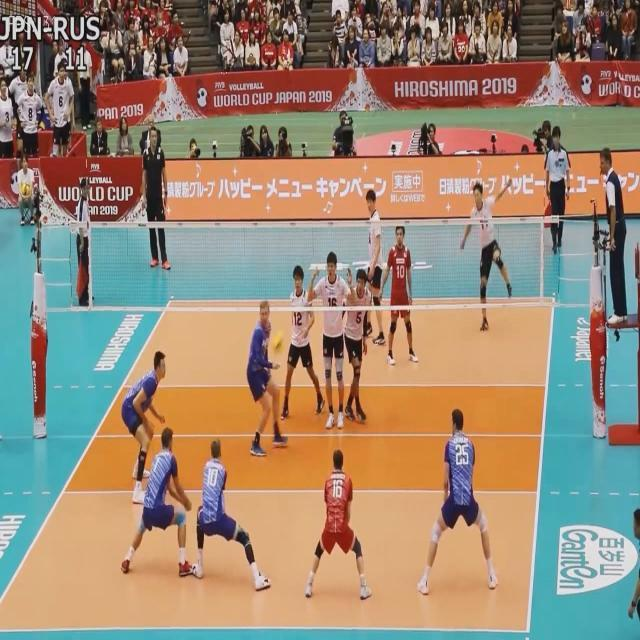volleyball: (270, 332, 286, 354)
